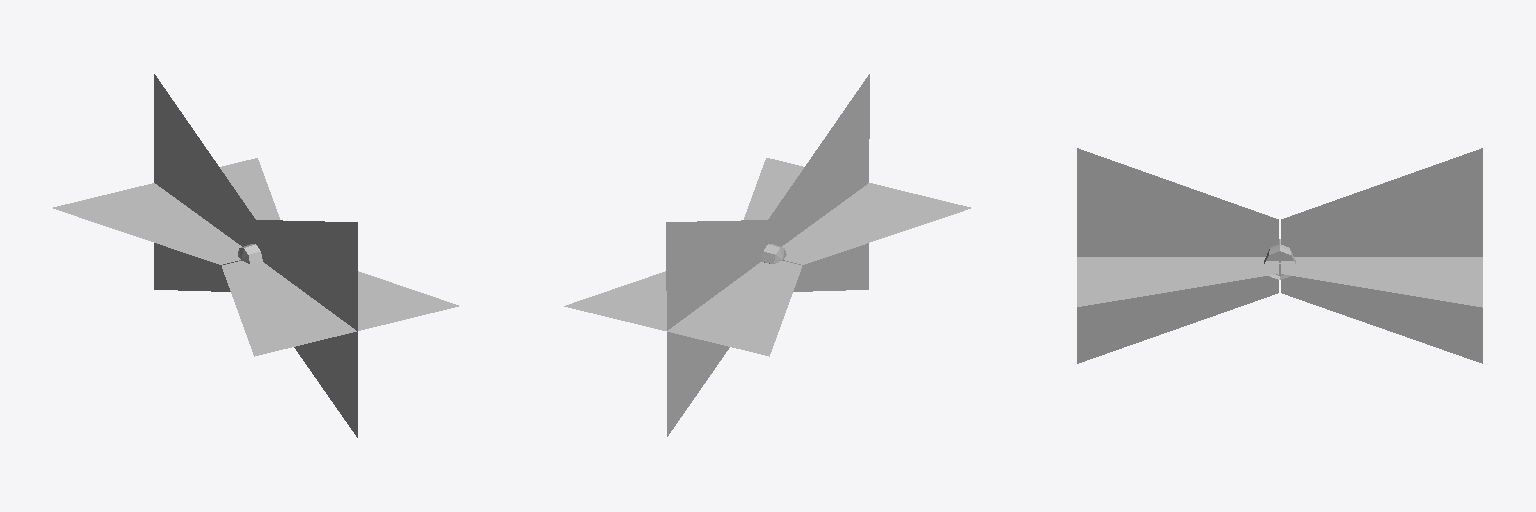
Rendered from stg400_MotRotlightA_m1_13.obj.
The picture shows the model from 3 angles: view 1: azimuth 30°, elevation 25°; view 2: azimuth 150°, elevation 25°; view 3: azimuth 270°, elevation 25°; orthographic projection.
Parts seen in each view (by area): view 1: polygon4; view 2: polygon4; view 3: polygon4.
Boxes of the visible parts, <box> form: polygon4: <box>53,74,458,437</box>; polygon4: <box>564,74,970,436</box>; polygon4: <box>1077,148,1482,363</box>.
Size of the model in its own units: 63.89 by 63.89 by 109.